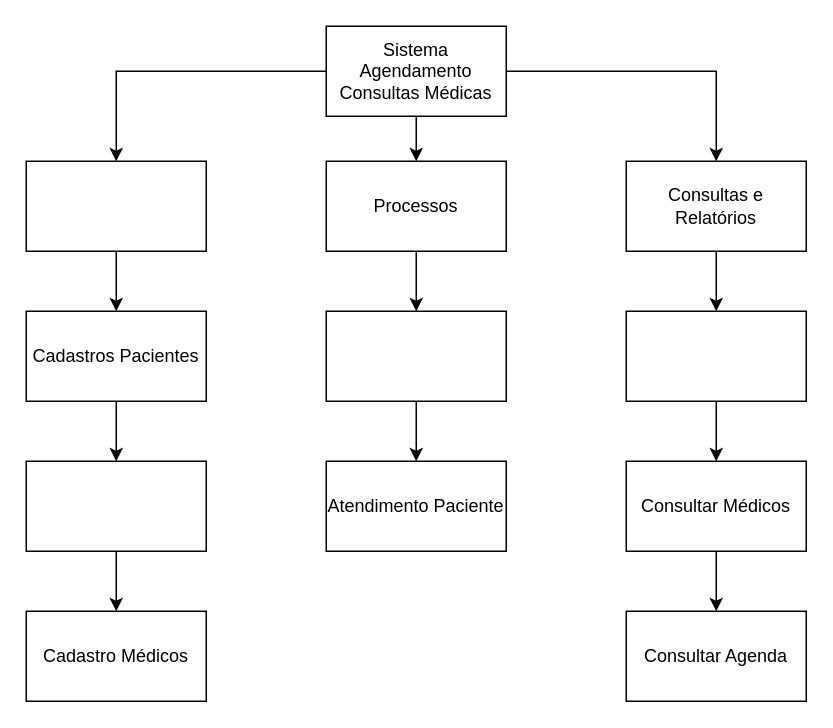
Some shapes in this 833 by 728 pixel diagram are drawn without their labels. Each missing label, with the box of its shape:
Agendar Consulta: (325, 310, 506, 401)
Cadastro Atendentes: (25, 460, 206, 551)
Cadastros: (25, 160, 206, 251)
Consultar Pacientes: (625, 310, 806, 401)
